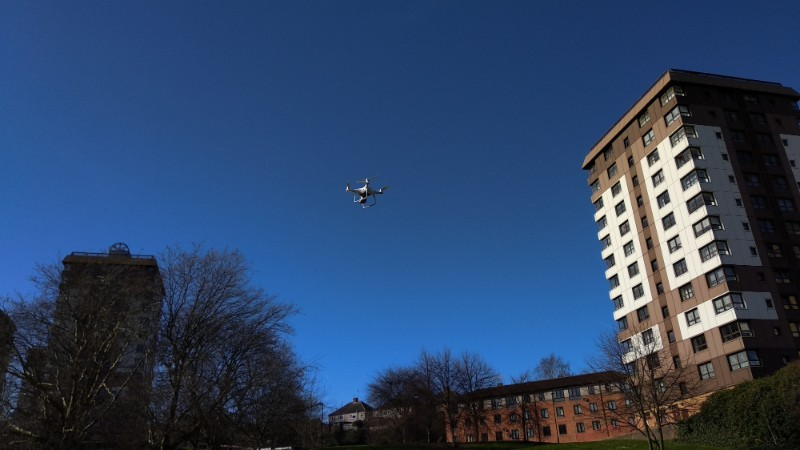drone: (343, 175, 391, 212)
